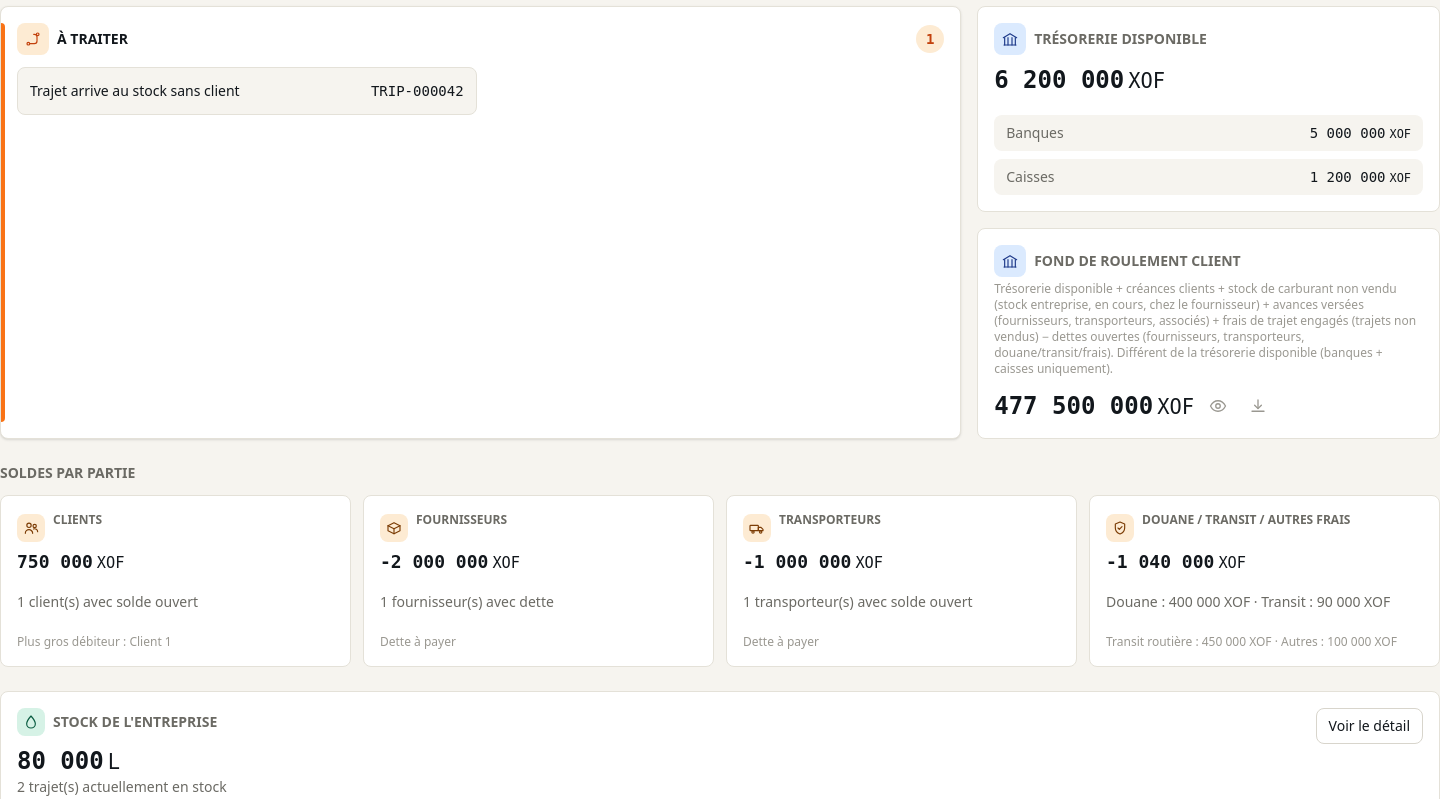
Test: DashboardView › shows the supplier reliquat value as its own line in the working capital card
The width and height of the screenshot is (1440, 799).
(page scrolled)
Click the button with test id "working-capital-toggle": (1218, 406) [1202, 390, 1234, 422]
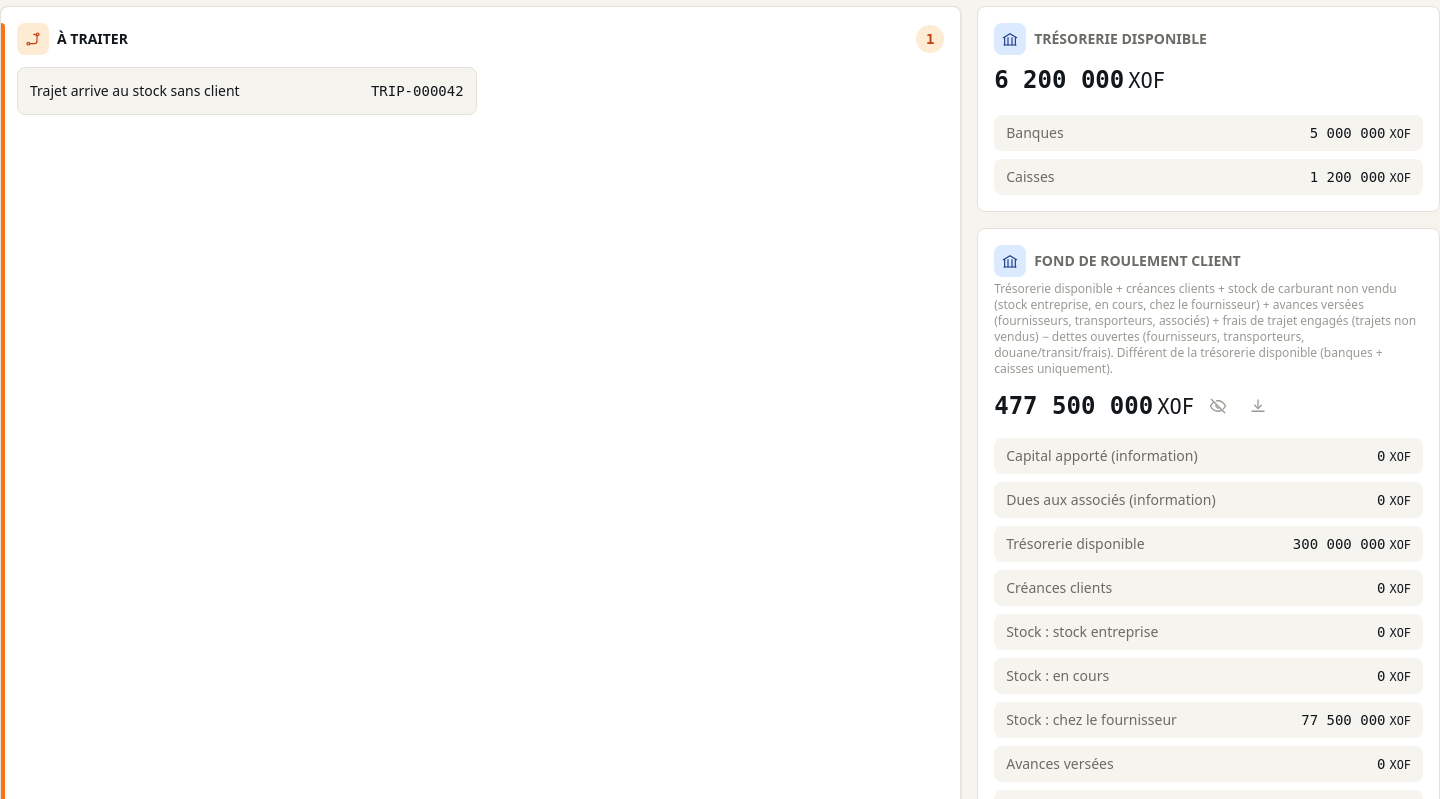
Check: the element showing "Stock : chez le fournisseur 77 500 000 XOF" is shown, box [994, 702, 1423, 738]
